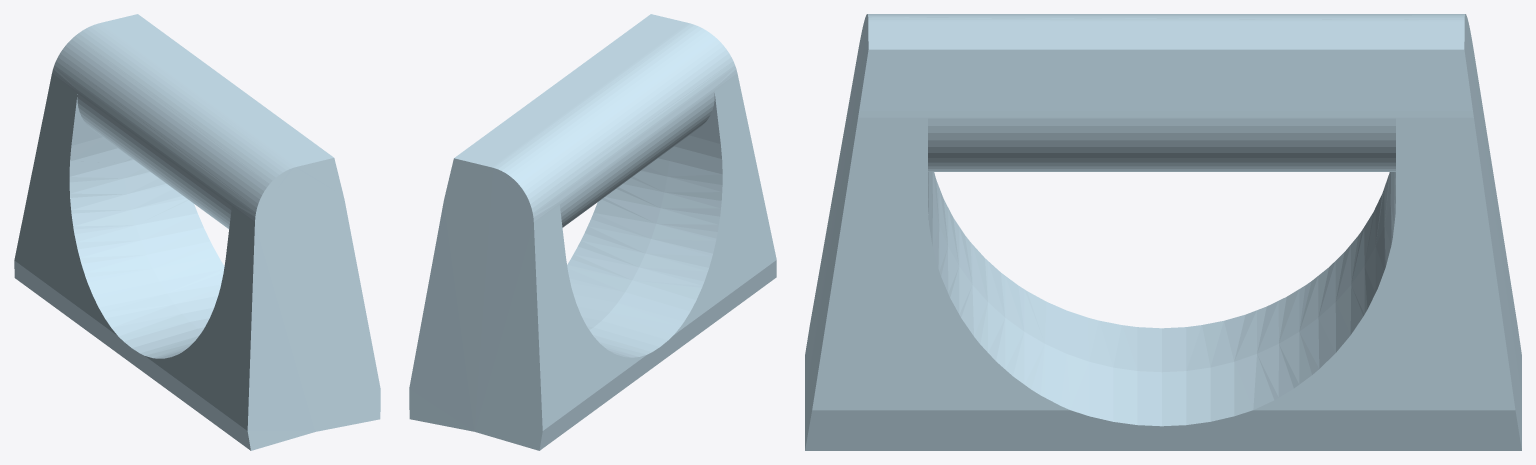
Rendered from knob.glb.
The picture shows the model from 3 angles, left to right: view 1: azimuth 30°, elevation 25°; view 2: azimuth 150°, elevation 25°; view 3: azimuth 270°, elevation 25°; orthographic projection. The views are drawn at different scales.
Visible parts, largest first — view 1: Part 1; view 2: Part 1; view 3: Part 1.
Boxes of the visible parts, bbox=[...] form: Part 1: bbox=[14, 14, 380, 450]; Part 1: bbox=[409, 14, 776, 450]; Part 1: bbox=[805, 14, 1521, 450].
Bounding box in the file's own units: 0.2022 × 0.3648 × 0.6188.
